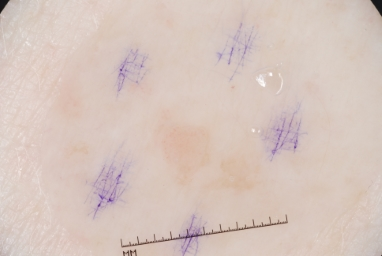seborrheic keratosis: (145, 101, 253, 200)
